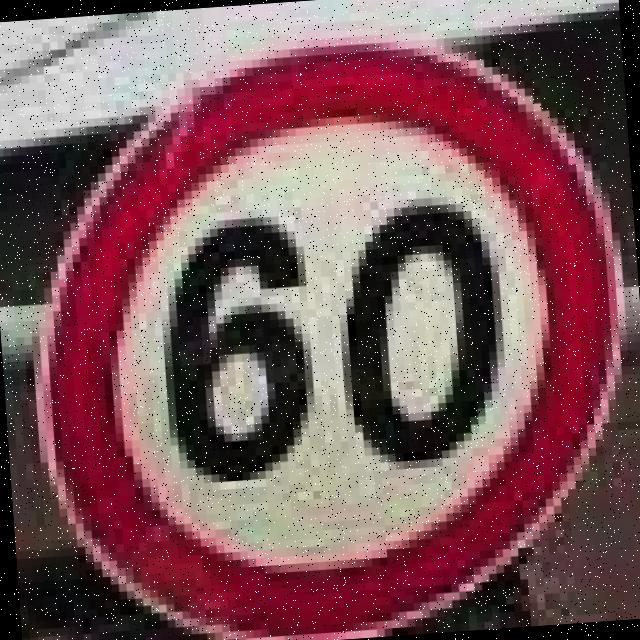Ograniczenie predkosci do 60: (4, 12, 630, 640)
